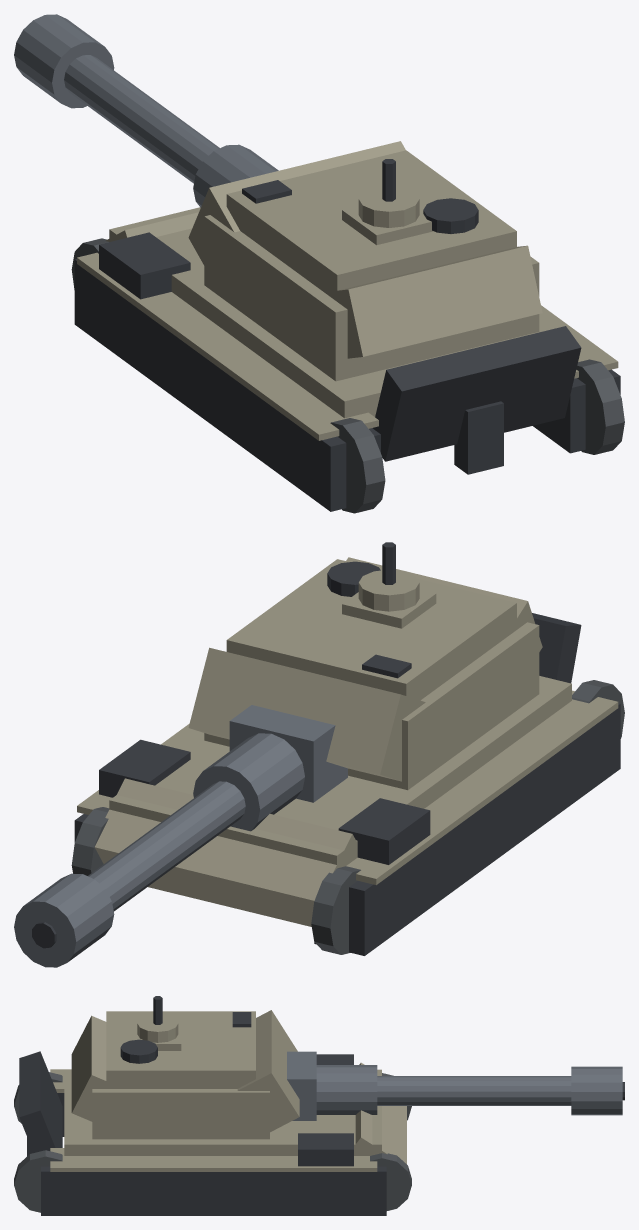
The model's file is tank_arty.glb.
3 views of the same model, one above another, from view 1: azimuth 30°, elevation 25°; view 2: azimuth 150°, elevation 25°; view 3: azimuth 270°, elevation 25° (orthographic). The views are drawn at different scales.
Parts seen in each view (by area): view 1: TankHull_arty, TankTurret_arty; view 2: TankHull_arty, TankTurret_arty; view 3: TankHull_arty, TankTurret_arty.
Part boxes in pixels (left/top/right/bottom): TankHull_arty: left=14, top=14, right=624, bottom=513; TankTurret_arty: left=342, top=159, right=433, bottom=245; TankHull_arty: left=14, top=557, right=624, bottom=967; TankTurret_arty: left=342, top=542, right=436, bottom=628; TankHull_arty: left=14, top=1010, right=624, bottom=1215; TankTurret_arty: left=134, top=996, right=181, bottom=1050.
Size of the model in its own units: 2.5 by 2.05 by 6.54.
